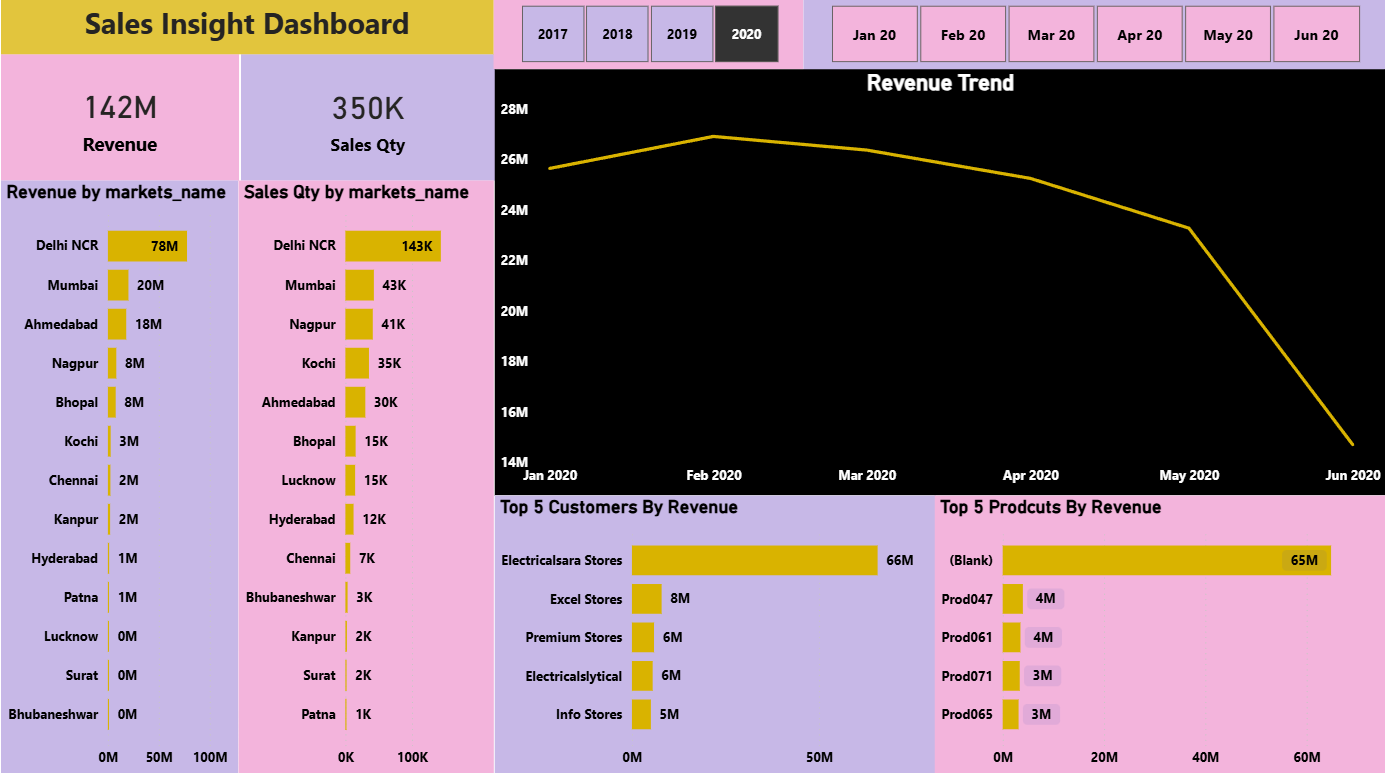

Layout of this report page (visuals, bound fields, positions):
{"tool":"powerbi","page":{"name":"Page 1","canvas":[1280,720],"ordinal":0},"visuals":[{"type":"card","fields":{"Values":["BaseMeasures.Revenue"]},"box":[0,0,219.6,168.8],"z":0},{"type":"card","fields":{"Values":["BaseMeasures.Sales Qty"]},"box":[219.6,0,236,168.8],"z":1000},{"type":"actionButton","box":[0,0,100,40],"z":2000},{"type":"barChart","fields":{"Y":["BaseMeasures.Revenue"],"Category":["sales markets.markets_name"]},"box":[0,168.8,219.6,551.6],"z":3000},{"type":"barChart","fields":{"Y":["BaseMeasures.Sales Qty"],"Category":["sales markets.markets_name"]},"box":[219.6,168.8,236,551.6],"z":4000},{"type":"slicer","fields":{"Values":["sales date.year"]},"box":[455.6,0,286.8,65.9],"z":5000},{"type":"slicer","fields":{"Values":["sales date.cy_date"]},"box":[742.3,0,538,66],"z":6000},{"type":"barChart","title":"Top 5 Customers By Revenue","fields":{"Y":["BaseMeasures.Revenue"],"Category":["sales customers.custmer_name"]},"box":[456.1,459.8,407.2,260.5],"z":7000},{"type":"barChart","title":"Top 5 Prodcuts  By Revenue","fields":{"Y":["BaseMeasures.Revenue"],"Category":["sales products.product_code"]},"box":[863.3,459.8,417,260.5],"z":8000},{"type":"lineChart","title":"Revenue Trend","fields":{"Y":["BaseMeasures.Revenue"],"Category":["sales date.cy_date"]},"box":[456.1,66,824.2,393.8],"z":9000}]}

Visuals, with their boxes in screenshot pixels (x1, y1, x2, y2), scaled from the page's 1280x720 canvas onto the 1387x773 screenshot:
card - BaseMeasures.Revenue: [0,0,238,181]
card - BaseMeasures.Sales Qty: [238,0,494,181]
actionButton: [0,0,108,43]
barChart - BaseMeasures.Revenue x sales markets.markets_name: [0,181,238,772]
barChart - BaseMeasures.Sales Qty x sales markets.markets_name: [238,181,494,772]
slicer - sales date.year: [494,0,804,71]
slicer - sales date.cy_date: [804,0,1386,71]
"Top 5 Customers By Revenue" barChart: [494,494,935,772]
"Top 5 Prodcuts  By Revenue" barChart: [935,494,1386,772]
"Revenue Trend" lineChart: [494,71,1386,494]
